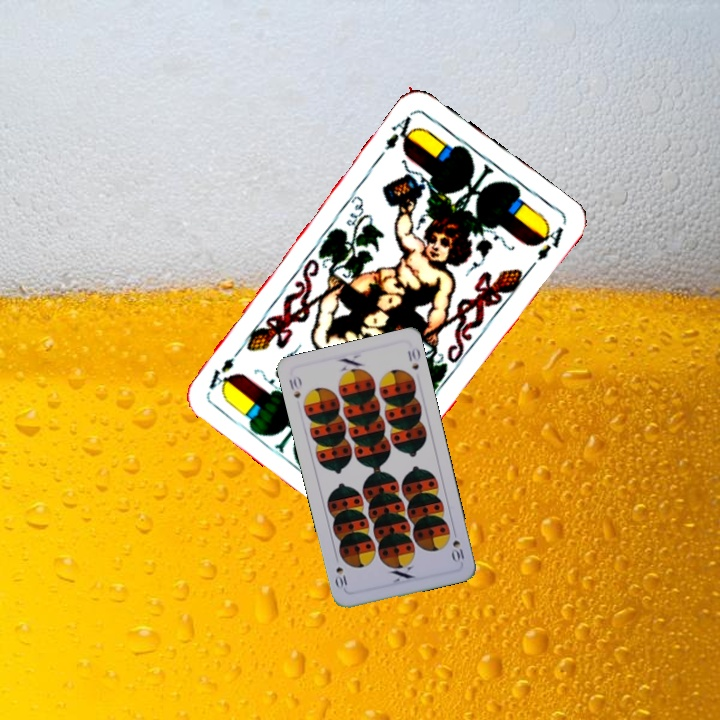EA: (380, 108, 420, 153)
S10: (448, 536, 468, 565), (285, 372, 304, 401)
